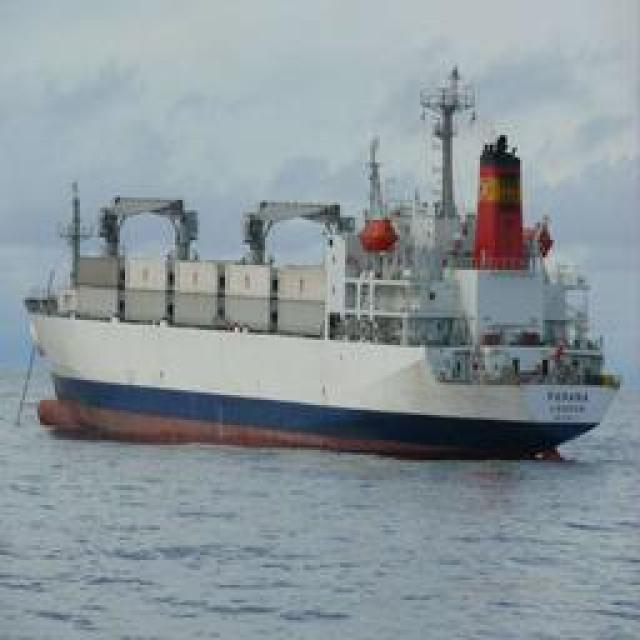ship2: (23, 66, 622, 465)
